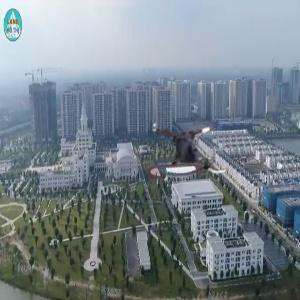drone: (147, 106, 233, 192)
